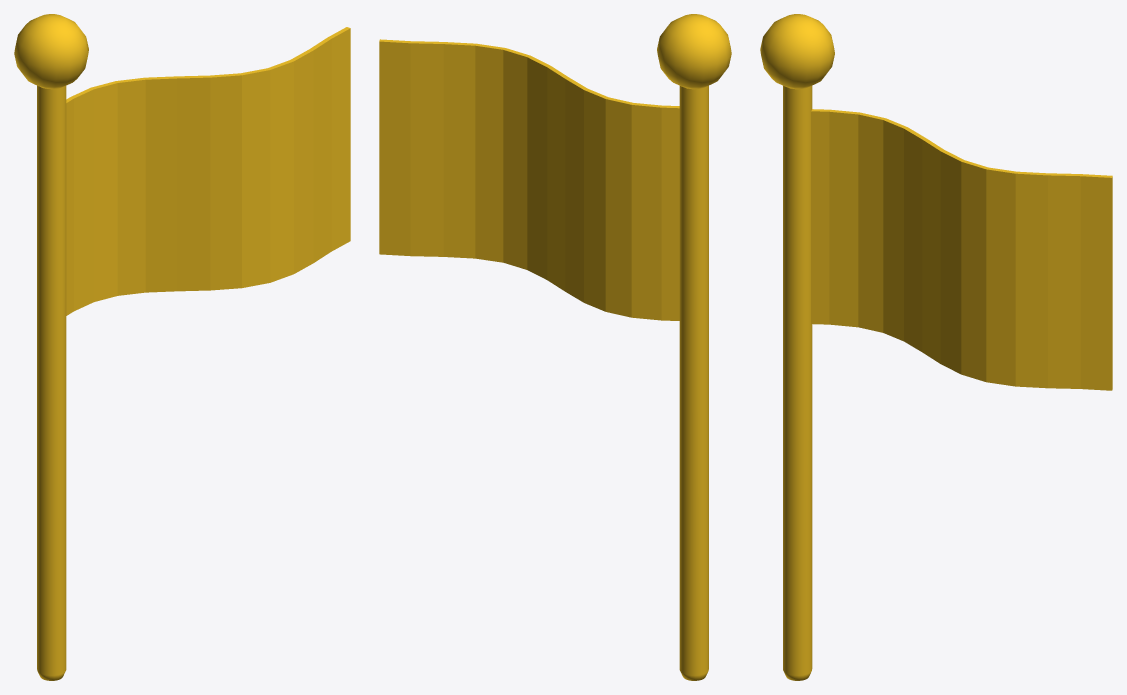
File: COM-FLAG-01.glb
3 renders of one model, left to right at view 1: azimuth 30°, elevation 25°; view 2: azimuth 150°, elevation 25°; view 3: azimuth 330°, elevation 25°, orthographic.
Visible parts, largest first — view 1: cloth, pole, finial; view 2: cloth, pole, finial; view 3: cloth, pole, finial.
Part boxes in pixels (x1,y1,x2,y2): cloth: (66, 27, 350, 315); pole: (37, 85, 66, 680); finial: (14, 14, 88, 89); cloth: (379, 39, 679, 320); pole: (679, 85, 708, 680); finial: (657, 14, 731, 89); cloth: (811, 109, 1112, 390); pole: (783, 85, 812, 680); finial: (760, 14, 834, 89).
Size of the model in its own units: 0.9346 by 1.74 by 0.18.
